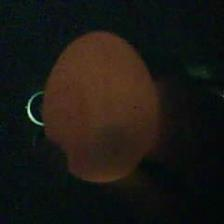fertile: (40, 30, 161, 184)
